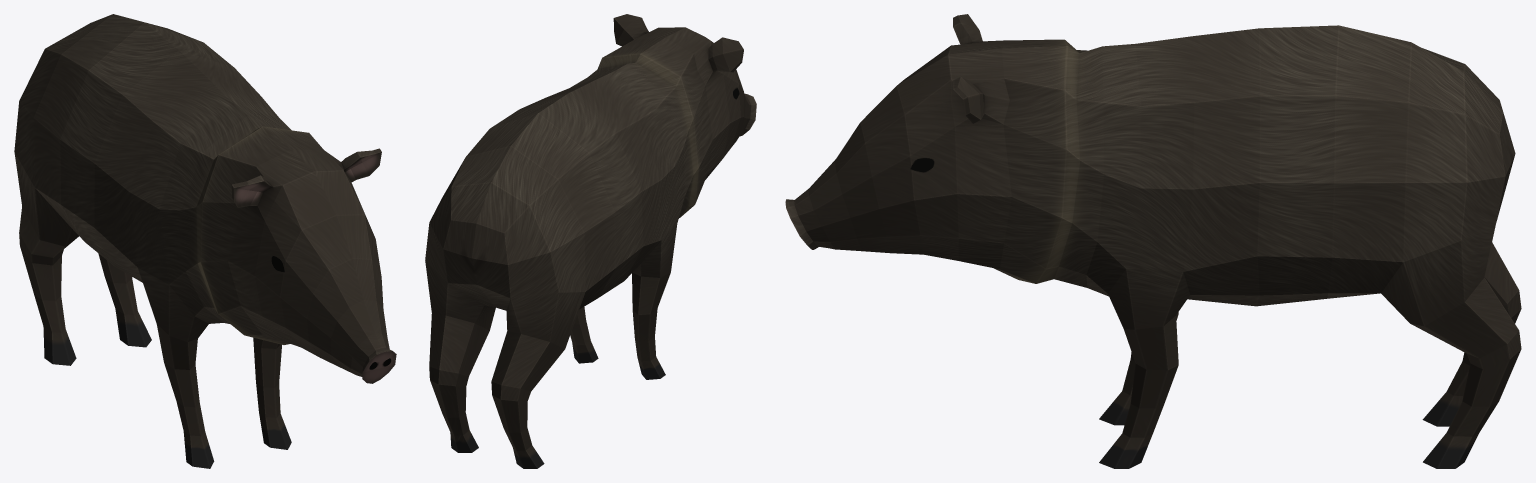
File: CollaredPeccary.glb
3 views of the same model, side by side, from view 1: azimuth 30°, elevation 25°; view 2: azimuth 150°, elevation 25°; view 3: azimuth 270°, elevation 25° (orthographic). The views are drawn at different scales.
Visible parts, largest first — view 1: CollaredPeccary_mesh; view 2: CollaredPeccary_mesh; view 3: CollaredPeccary_mesh.
Boxes of the visible parts, box(x1,y1,x2,y2) form: CollaredPeccary_mesh: box(14, 14, 396, 468); CollaredPeccary_mesh: box(425, 14, 756, 468); CollaredPeccary_mesh: box(785, 14, 1521, 468).
Bounding box in the file's own units: 0.7042 × 1.4 × 2.25.
1 material, 1 textured.
